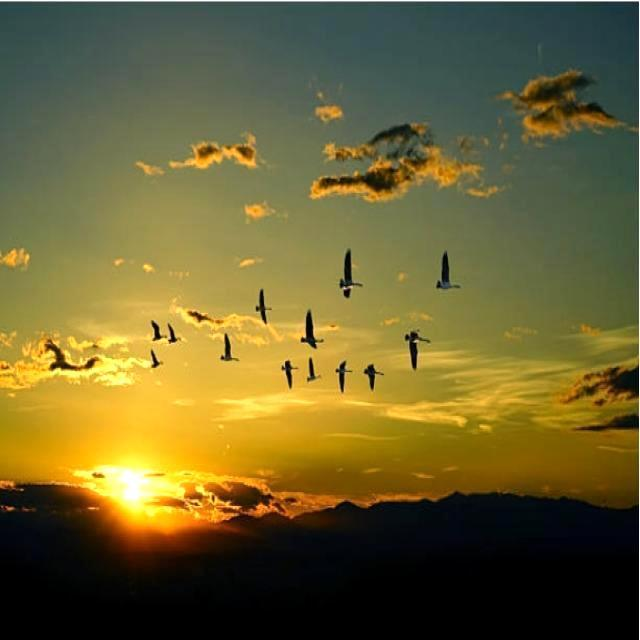bird: (398, 320, 434, 375), (332, 245, 366, 298), (428, 246, 462, 296), (292, 306, 324, 354), (248, 279, 274, 328), (361, 356, 392, 396), (216, 330, 243, 373), (276, 356, 304, 392), (330, 358, 356, 394), (303, 354, 324, 390), (168, 314, 185, 348), (144, 316, 164, 344), (147, 348, 166, 371)
